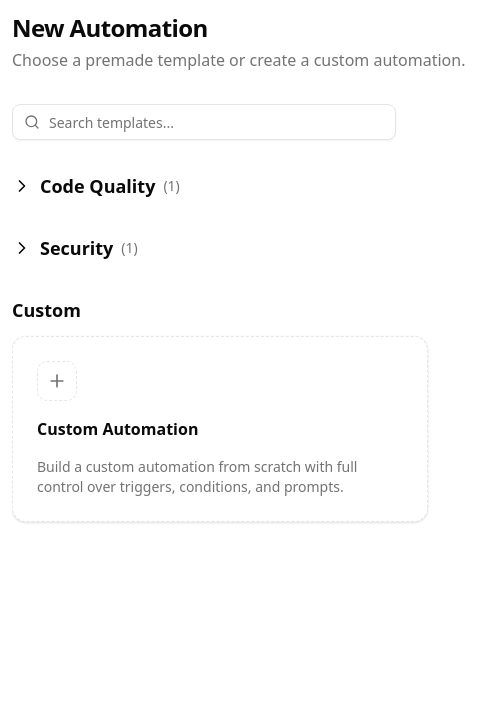
Test: AutomationNewPage › should auto-expand categories when searching
Check: the text "Code Quality" is shown, box [40,172,155,200]
Type "PR" into the field with placeholder "Search templates..." at {"x": 204, "y": 122}, box [12,104,396,140]
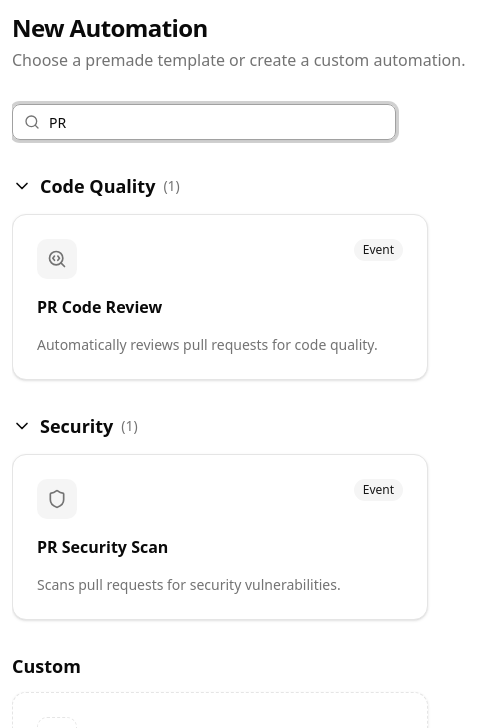
Check: the text "PR Code Review" is shown, box [37,296,162,318]
Check: the text "PR Security Scan" is shown, box [37,536,168,558]
